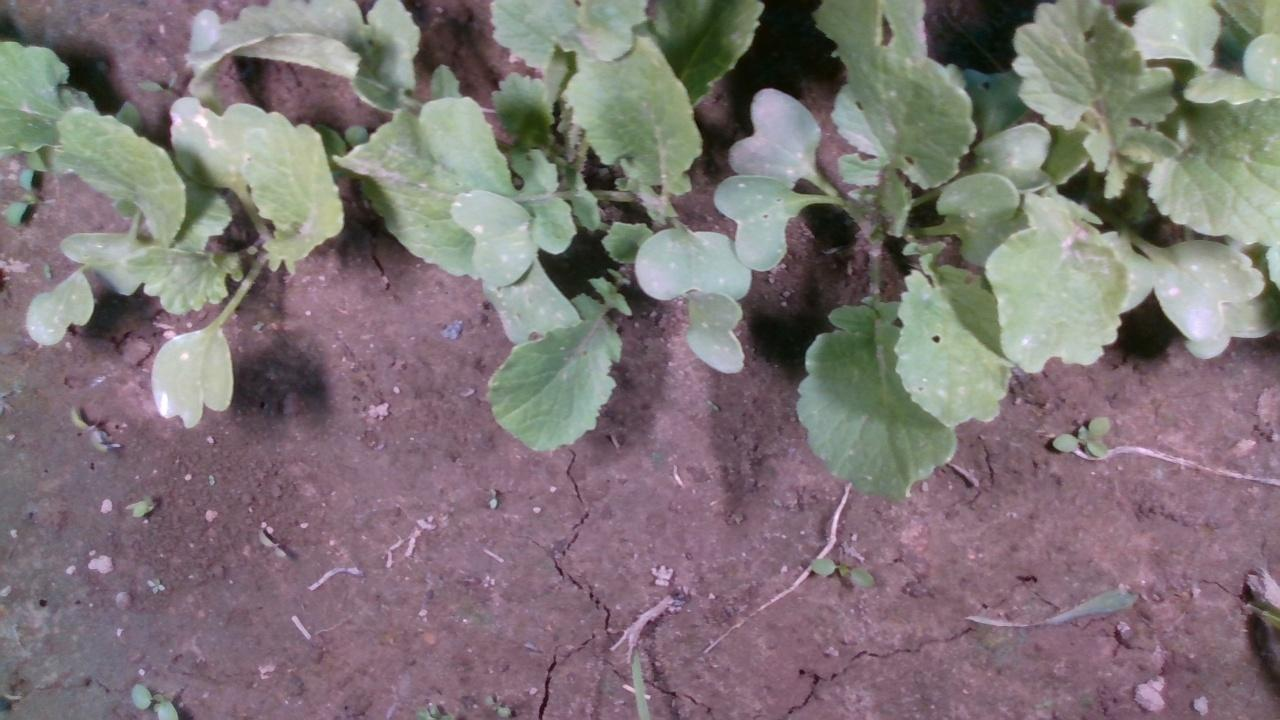weed: (1043, 414, 1115, 460)
